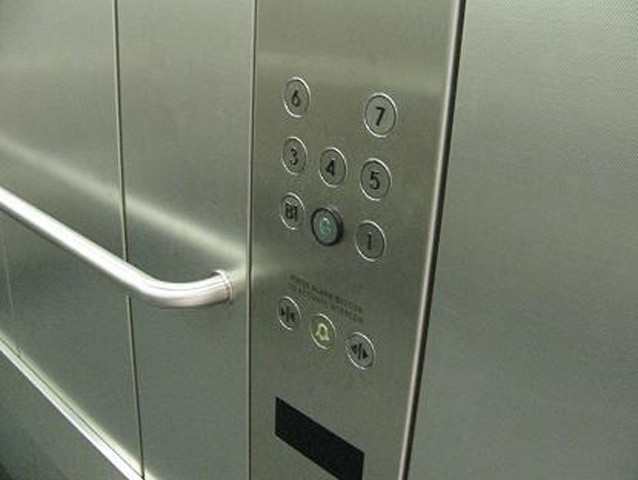1: (352, 218, 388, 264)
3: (279, 134, 309, 176)
4: (316, 145, 350, 188)
5: (355, 156, 393, 203)
6: (281, 75, 313, 119)
7: (361, 91, 398, 138)
B1: (277, 190, 307, 231)
G: (309, 203, 345, 248)
alarm: (307, 312, 339, 351)
close: (275, 294, 302, 332)
led: (274, 396, 365, 480)
open: (344, 331, 377, 371)
